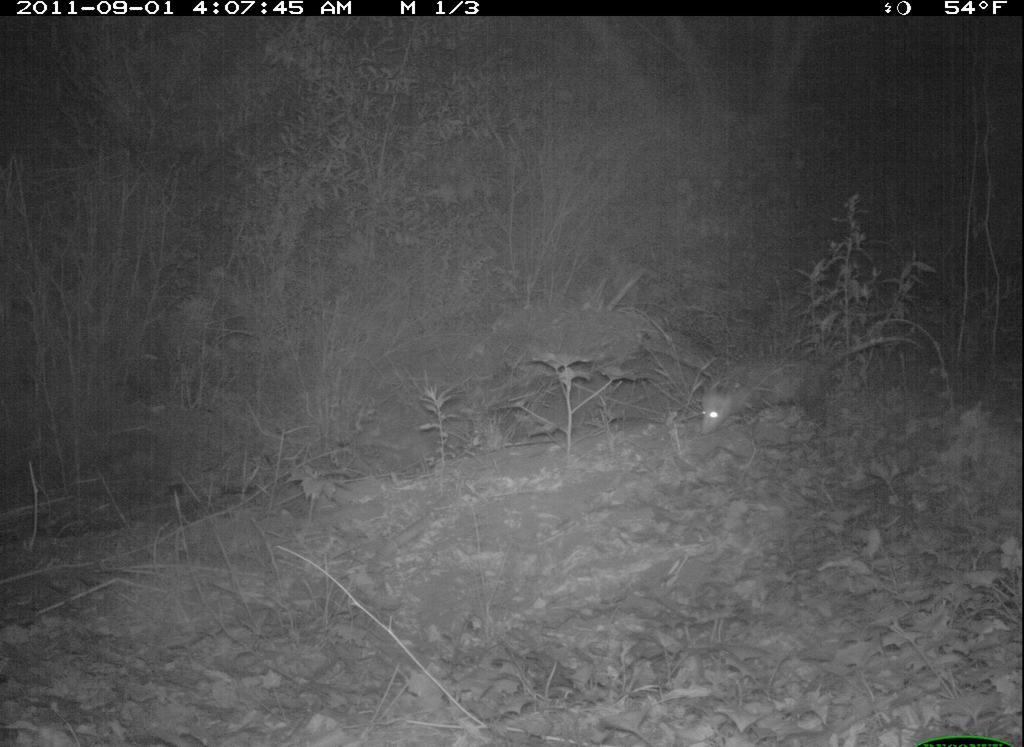opossum: (690, 338, 884, 443)
